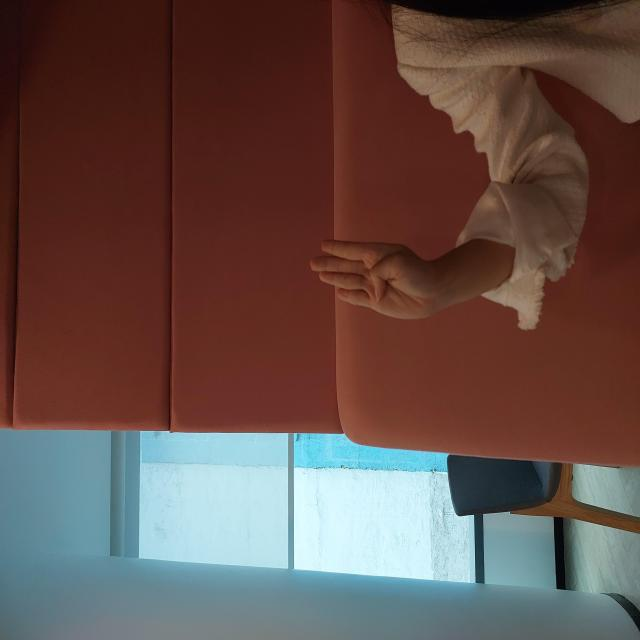B: (320, 310, 401, 436)
